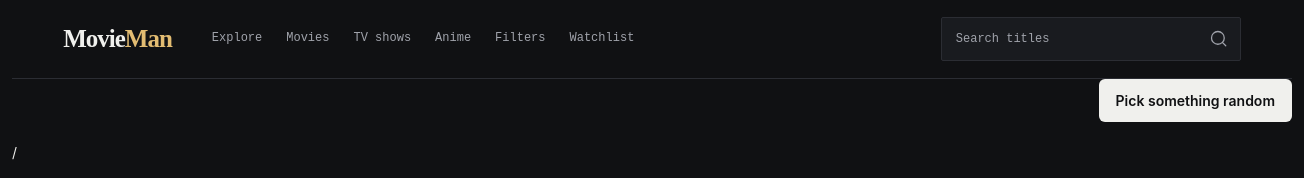
Test case: search suggestions cancel obsolete requests and support pointer selection
Type "old" into the dropdown named "Search movies and TV shows" at [1091, 38], box [941,16,1241,60]
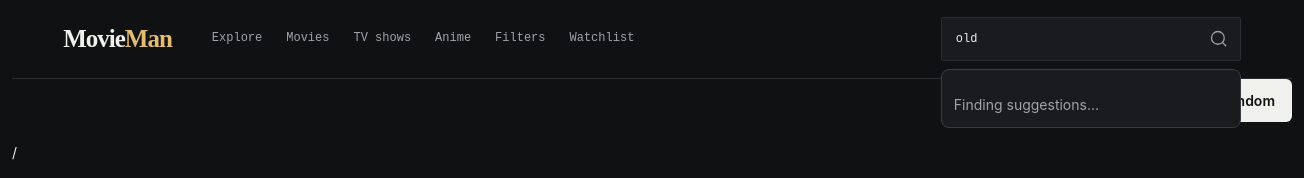
Replace the text in the dropdown named "Search movies and TV shows" with "new" at [1091, 38], box [941,16,1241,60]
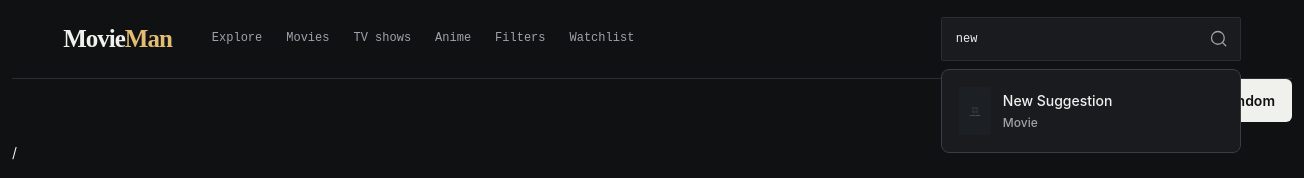
Expected: the button "New Suggestion Movie" is shown
Click the button "New Suggestion Movie" at [1091, 110], box [948,76,1234,146]
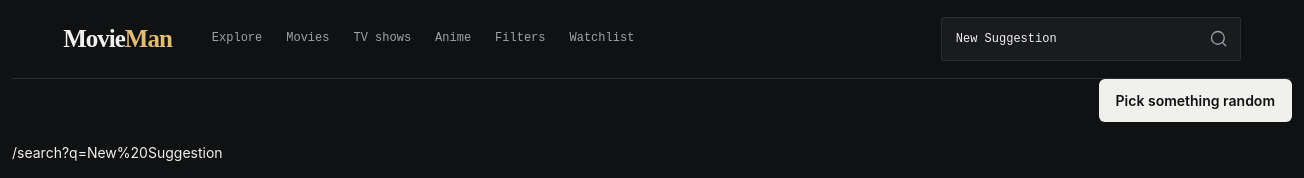
Expected: the text with test id "location" reads "/search?q=New%20Suggestion", [12,144,223,161]
